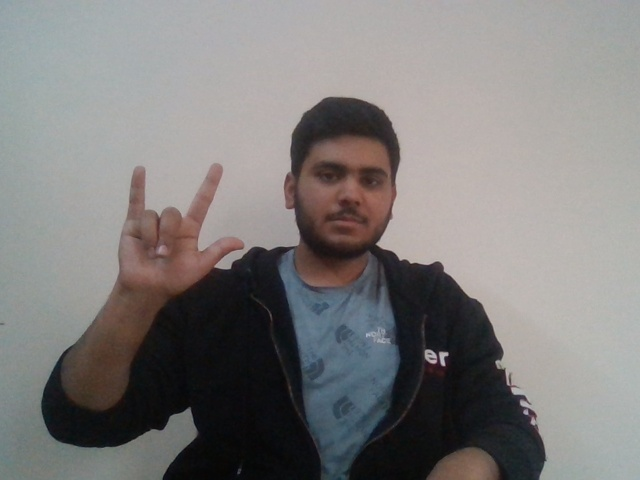IloveYou: (102, 157, 254, 288)
